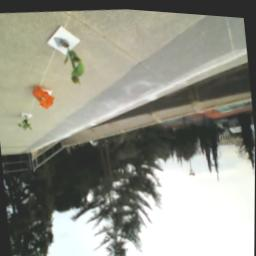herb: (63, 41, 88, 87), (18, 113, 33, 133)
wild: (31, 82, 57, 112)
